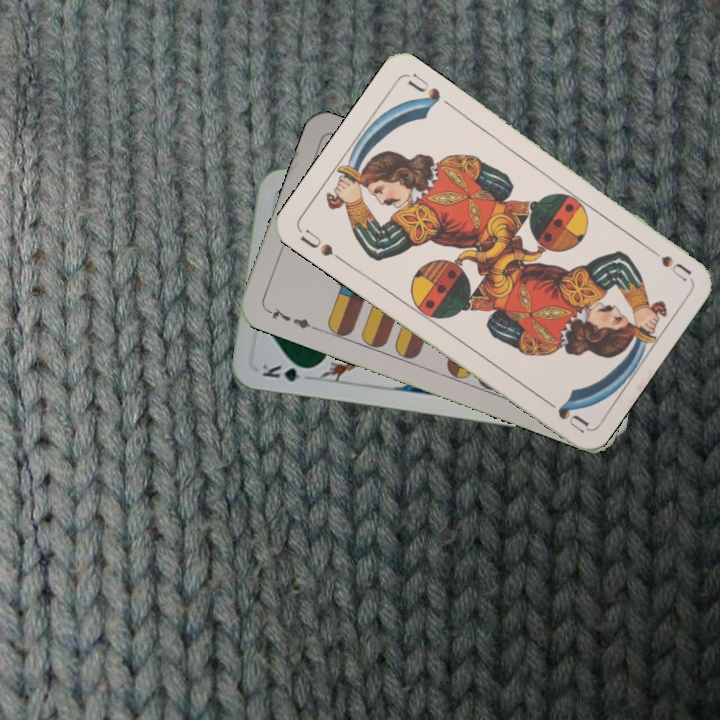E7: (262, 303, 319, 333)
GK: (258, 360, 315, 385)
SU: (640, 240, 694, 284), (296, 224, 348, 265)
